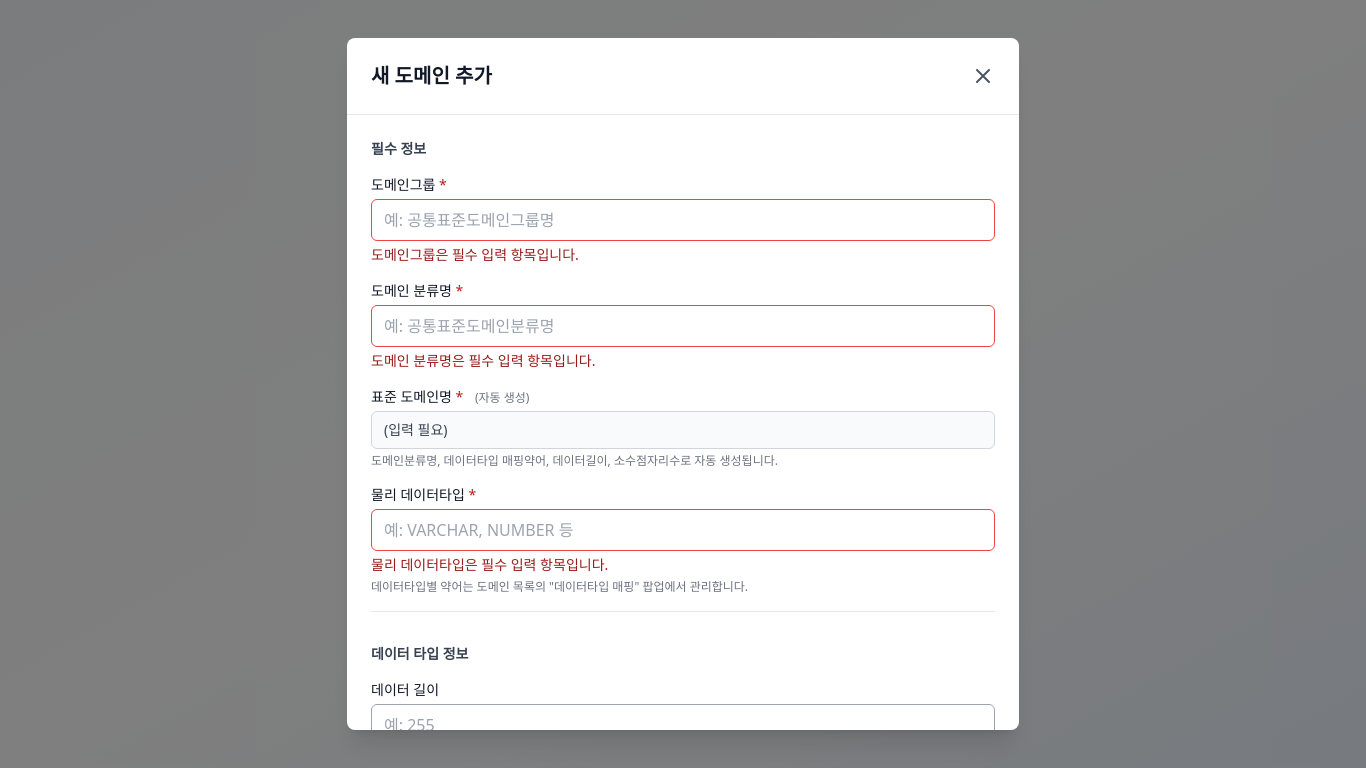
it: DomainEditor › Form Validation › should enable save button when all required fields are filled
Type "공통표준도메인그룹" into the field labelled "도메인그룹 *" at (683, 220), box [371, 199, 995, 241]
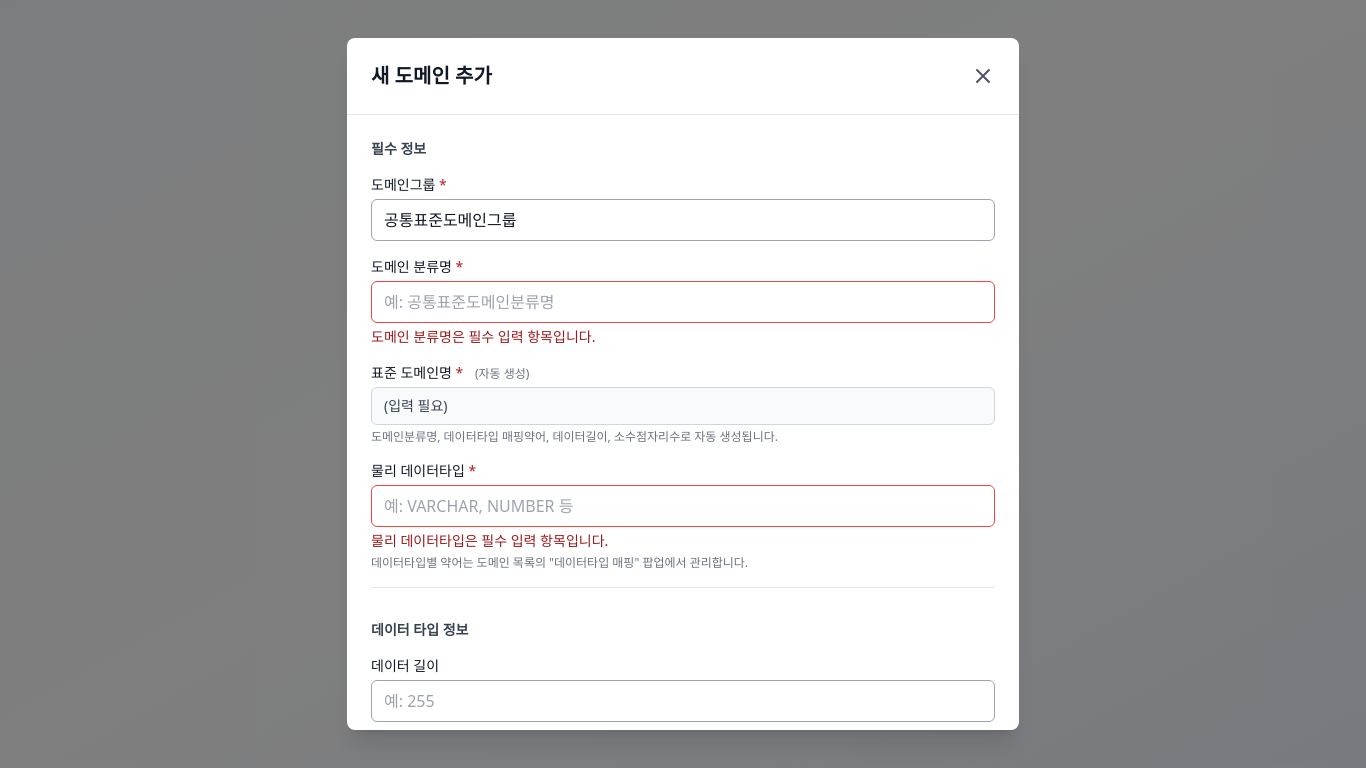
Type "테스트분류" into the field labelled "도메인 분류명 *" at (683, 302), box [371, 281, 995, 323]
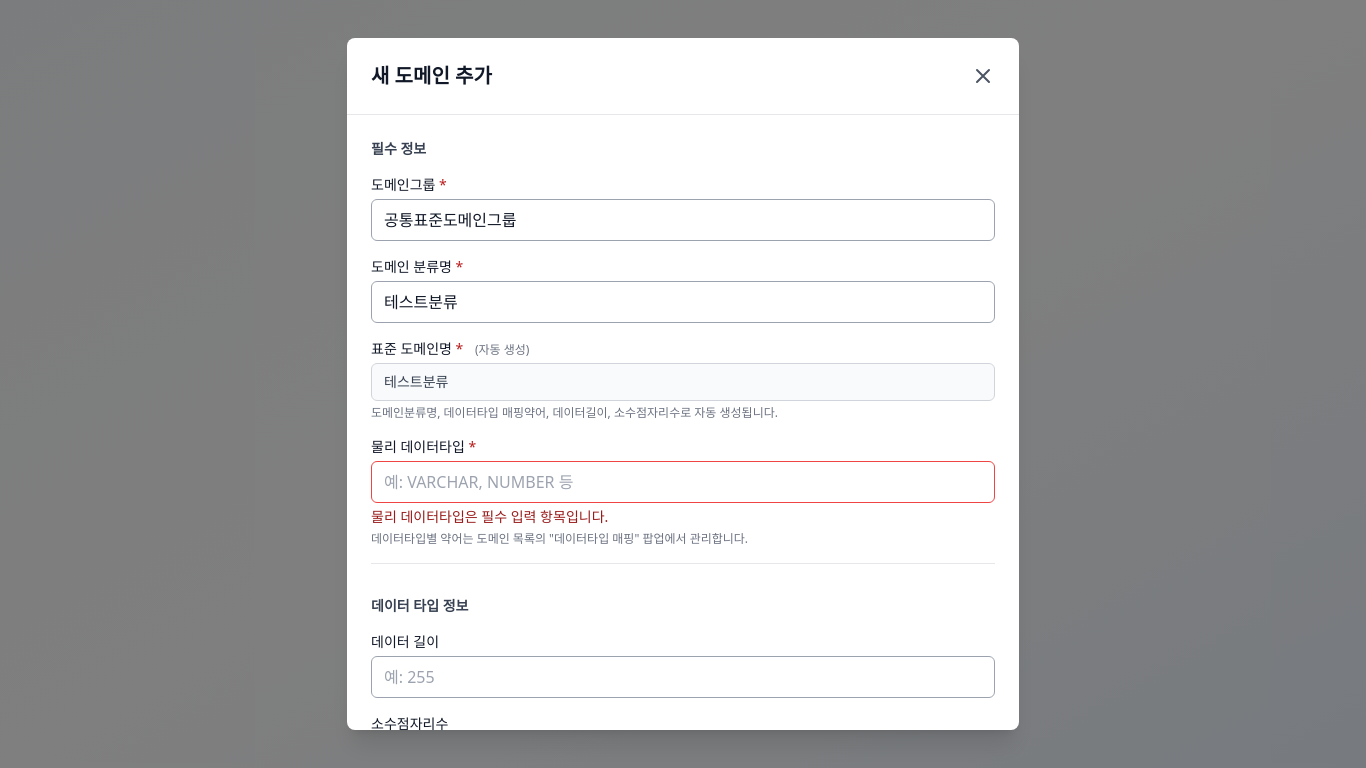
Type "VARCHAR" into the field labelled "물리 데이터타입 *" at (683, 482), box [371, 461, 995, 503]
(page scrolled)
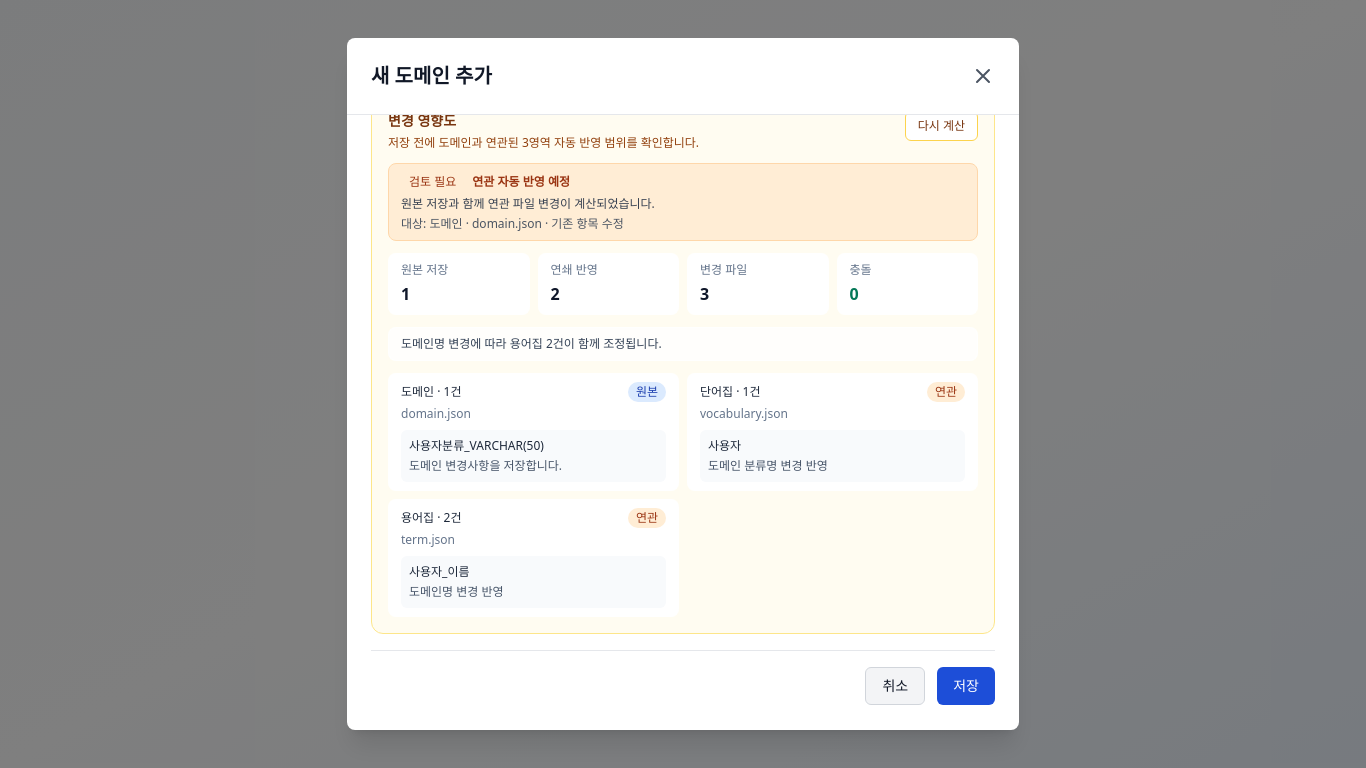
Now the button "저장" is enabled, box [937, 667, 995, 705]
